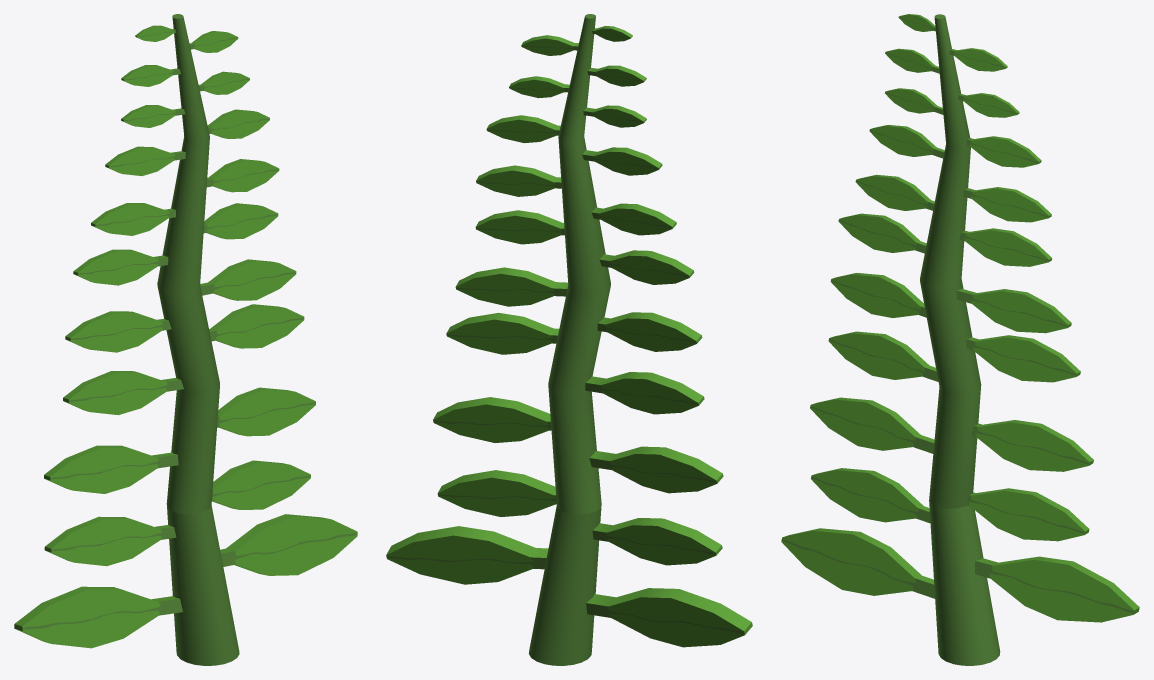
File: Plant.fbx
3 renders of one model, left to right at view 1: azimuth 30°, elevation 25°; view 2: azimuth 150°, elevation 25°; view 3: azimuth 330°, elevation 25°, orthographic. The views are drawn at different scales.
Parts seen in each view (by area): view 1: pCube22; view 2: pCube22; view 3: pCube22.
Boxes of the visible parts, x1,y1,x2,y2 form: pCube22: (14, 14, 357, 665); pCube22: (386, 14, 752, 665); pCube22: (781, 14, 1139, 665).
Bounding box in the file's own units: 6.76 × 11.94 × 1.13.
